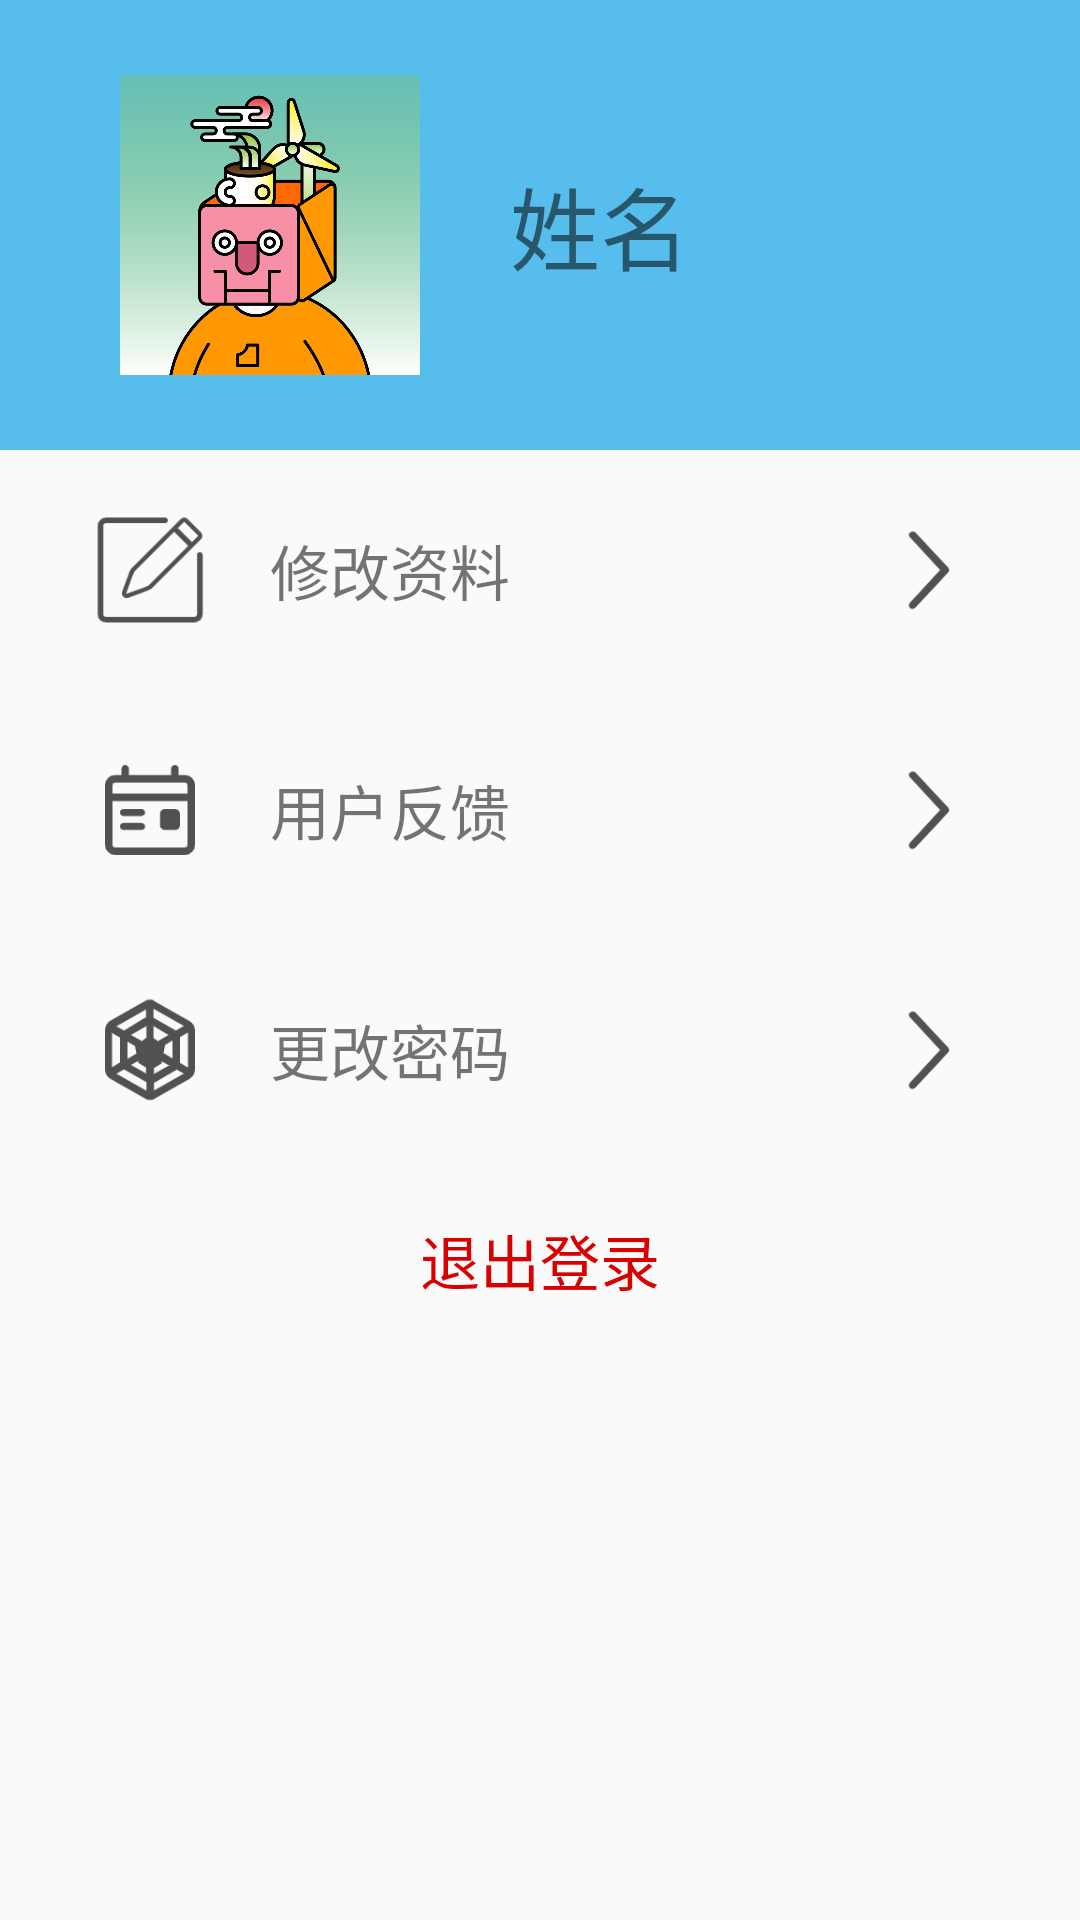

Point at icon controls on the screen. Image size 1080w x 1920h, points as [x,y].
xiugaiziliao: [150,570]
youbian: [929,570], [929,810], [929,1050]
